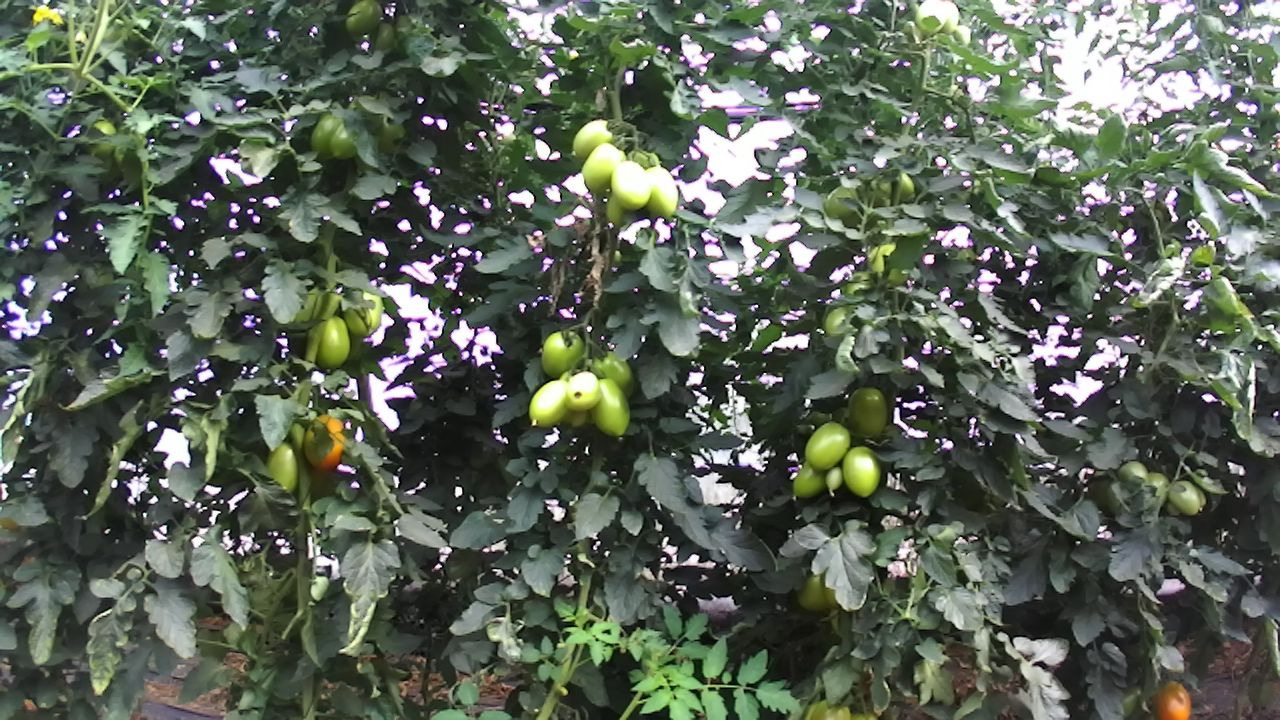tomato: (299, 412, 349, 474), (337, 283, 386, 341), (587, 347, 638, 402), (590, 375, 632, 441), (846, 384, 890, 444), (581, 139, 629, 192), (804, 419, 851, 473), (839, 442, 883, 499), (608, 158, 653, 213), (540, 327, 586, 378), (568, 115, 616, 163), (525, 379, 571, 428), (262, 439, 301, 496), (643, 165, 681, 223), (314, 314, 352, 371), (307, 108, 345, 164), (788, 458, 829, 502), (1152, 679, 1194, 720), (562, 369, 601, 412), (326, 120, 364, 164), (340, 0, 384, 36), (1166, 478, 1203, 518), (823, 182, 861, 220), (823, 464, 844, 495)
